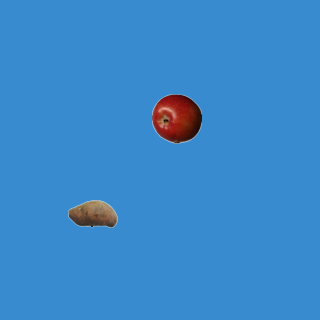Apple Braeburn: (151, 93, 201, 143)
Potato Sweet: (67, 188, 117, 238)
